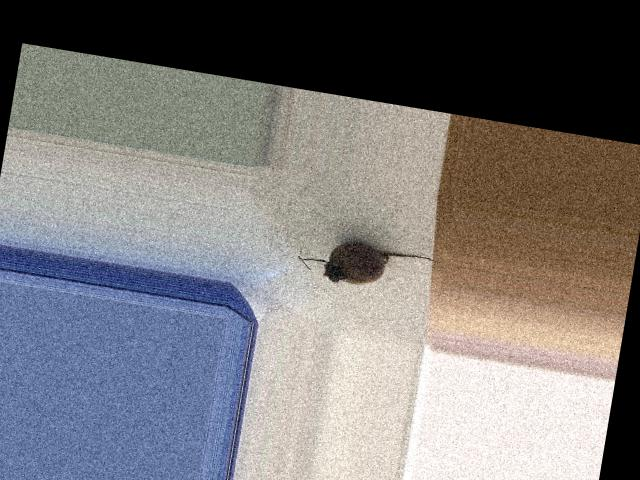beet: (295, 233, 438, 297)
